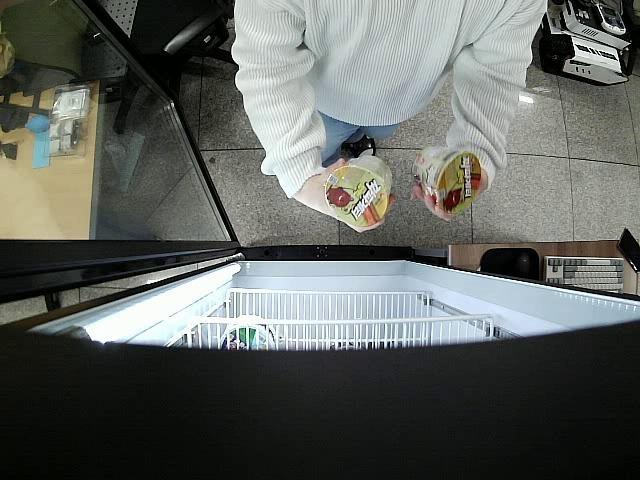04_chapagetti_S: (410, 146, 482, 218), (324, 154, 392, 227)
